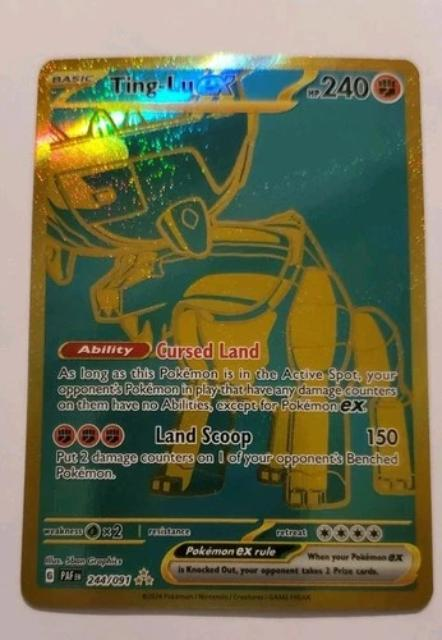Card: (17, 51, 439, 618)
Name: (106, 70, 244, 102)
